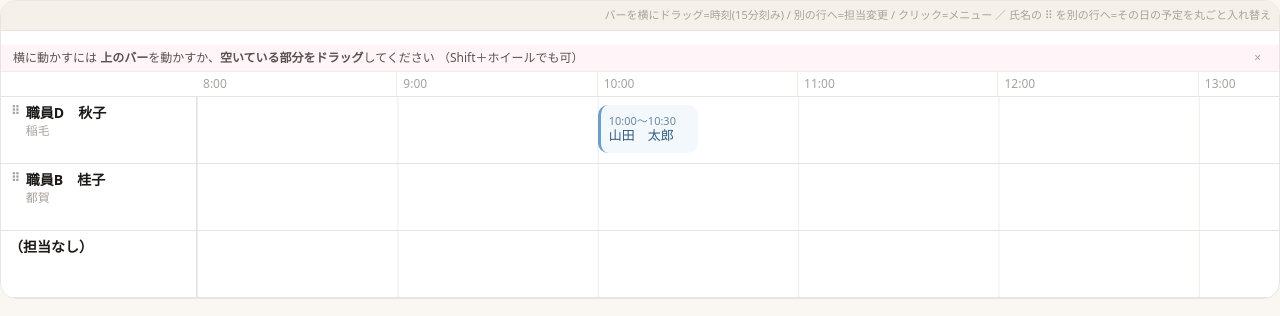
Test: StaffTimelineView — ドラッグ › ドラッグ中はバーの時刻ラベルが追随する
The image size is (1280, 316).
Press the mouse on the button with test id "tl-bar-v1" at coordinates (648, 128), box [598,104,698,152]
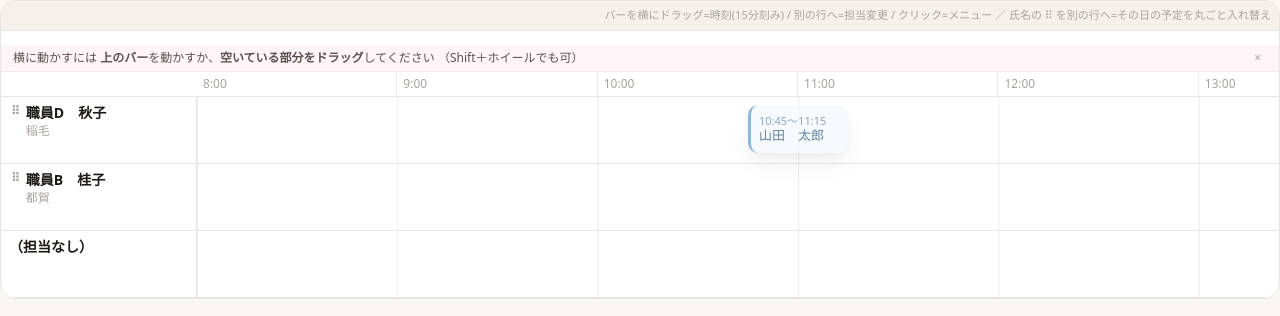
Check: the button with test id "tl-bar-v1" shows "10:45〜11:15", box [748,104,848,152]
